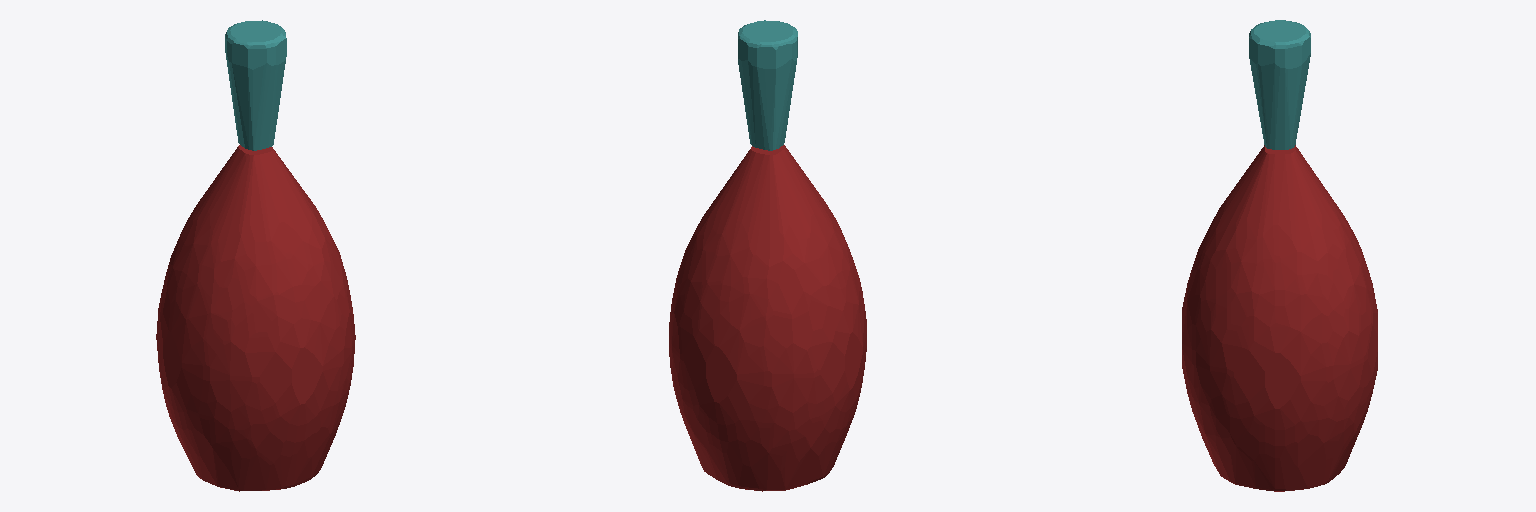
robot.urdf — root:
<robot name="root">
  <link name="bottle_body">
    <inertial>
      <origin xyz="0 0 0" rpy="0 0 0"/>
    </inertial>
    <mass value="1.00E-02"/>
    <visual>
      <origin xyz="0 0 0" rpy="0 0 0"/>
      <geometry>
        <mesh filename="core-bottle-725c3906071ecad52701ea82a42c662b-coacd_convex_piece_1.obj" scale="1.0000E-01 1.0000E-01 1.0000E-01"/>
      </geometry>
      <material name="">
        <color rgba="6.00E-01 2.00E-01 2.00E-01 1"/>
      </material>
    </visual>
    <collision>
      <origin xyz="0 0 0" rpy="0 0 0"/>
      <geometry>
        <mesh filename="core-bottle-725c3906071ecad52701ea82a42c662b-coacd_convex_piece_1.obj" scale="1.0000E-01 1.0000E-01 1.0000E-01"/>
      </geometry>
    </collision>
  </link>
  <link name="bottle_cap">
    <origin xyz="0 0 0.002" rpy="0 0 0"/>
    <mass value="1.00E-02"/>
    <visual>
      <origin xyz="0 0 0.002" rpy="0 0 0"/>
      <geometry>
        <mesh filename="core-bottle-725c3906071ecad52701ea82a42c662b-coacd_convex_piece_0.obj" scale="1.0000E-01 1.0000E-01 1.0000E-01"/>
      </geometry>
      <material name="">
        <color rgba="3.00E-01 6.00E-01 6.00E-01 1"/>
      </material>
    </visual>
    <collision>
      <origin xyz="0 0 0.002" rpy="0 0 0"/>
      <geometry>
        <mesh filename="core-bottle-725c3906071ecad52701ea82a42c662b-coacd_convex_piece_0.obj" scale="1.0000E-01 1.0000E-01 1.0000E-01"/>
      </geometry>
    </collision>
  </link>
  <joint name="bottle_cap_joint" type="revolute">
    <origin xyz="0 0 0" rpy="0 0 0"/>
    <parent link="bottle_body"/>
    <child link="bottle_cap"/>
    <axis xyz="0 0 1"/>
    <limit lower="0.00" upper="6.28"/>
    <dynamics damping="0.05"/>
  </joint>
</robot>

--- Render facts (derived) ---
The picture shows the robot from 3 angles, left to right: view 1: azimuth 30°, elevation 25°; view 2: azimuth 150°, elevation 25°; view 3: azimuth 270°, elevation 25°; orthographic projection.
Model root with 2 links and 1 joints (1 revolute), rooted at bottle_body, posed all joints at 0.
Visible links, largest first — view 1: bottle_body, bottle_cap; view 2: bottle_body, bottle_cap; view 3: bottle_body, bottle_cap.
Link boxes in pixels (x1=…): bottle_body: x1=156, y1=145, x2=355, y2=491; bottle_cap: x1=225, y1=20, x2=286, y2=150; bottle_body: x1=669, y1=145, x2=866, y2=491; bottle_cap: x1=738, y1=20, x2=797, y2=150; bottle_body: x1=1182, y1=145, x2=1377, y2=491; bottle_cap: x1=1249, y1=20, x2=1310, y2=149.
Bounding box of the posed robot: 0.0782 × 0.0782 × 0.1915 m (x, y, z).
2 mesh visuals loaded from 2 distinct referenced files (2 OBJ).